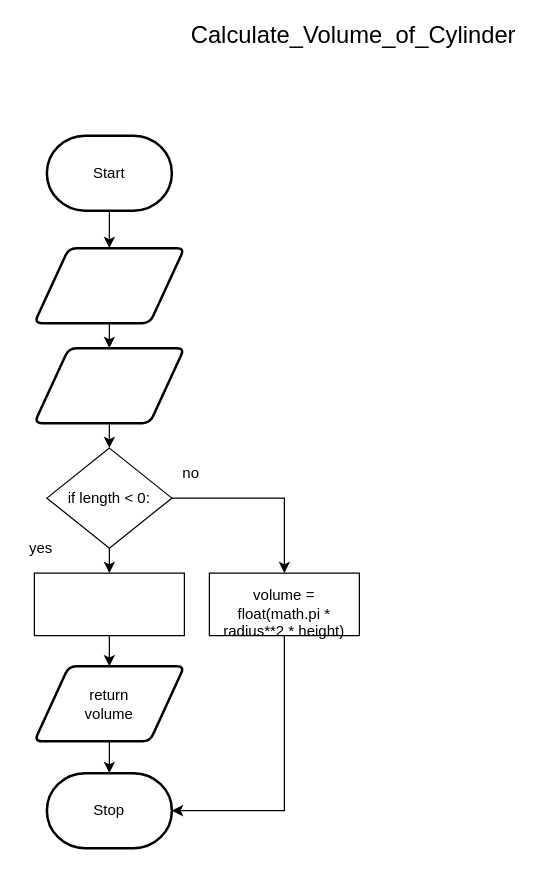
This 549x871 diagram has some shape labels left out. Each missing label, with the centre of its shape:
Get height: [108,285]
Get radius: [108,385]
volume =float(-1): [108,604]
